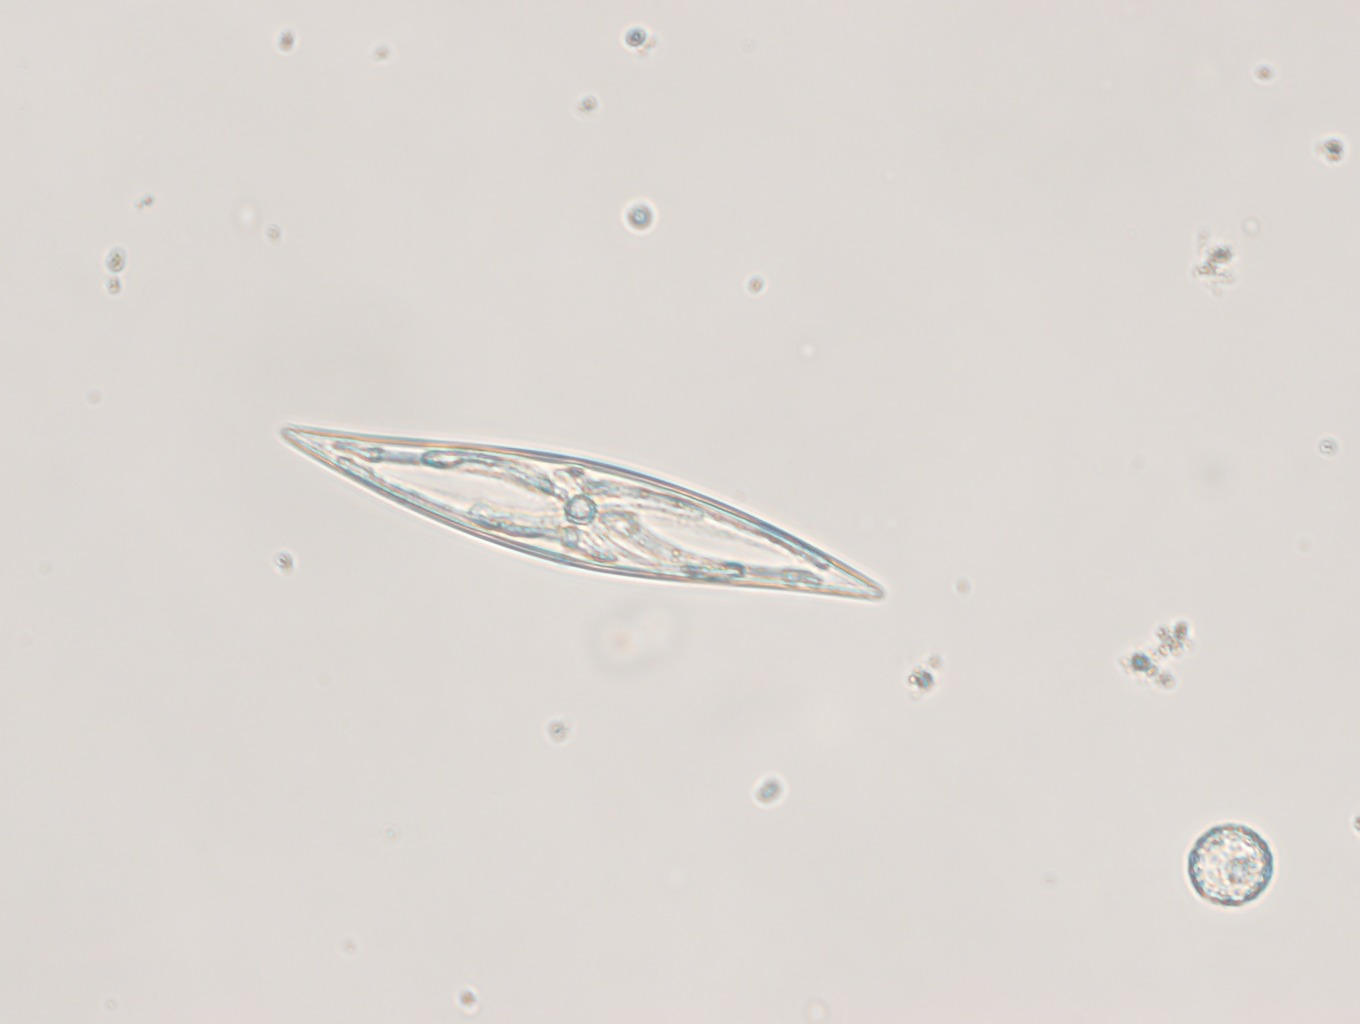pleurosigma pelagicum: (276, 423, 885, 601)
